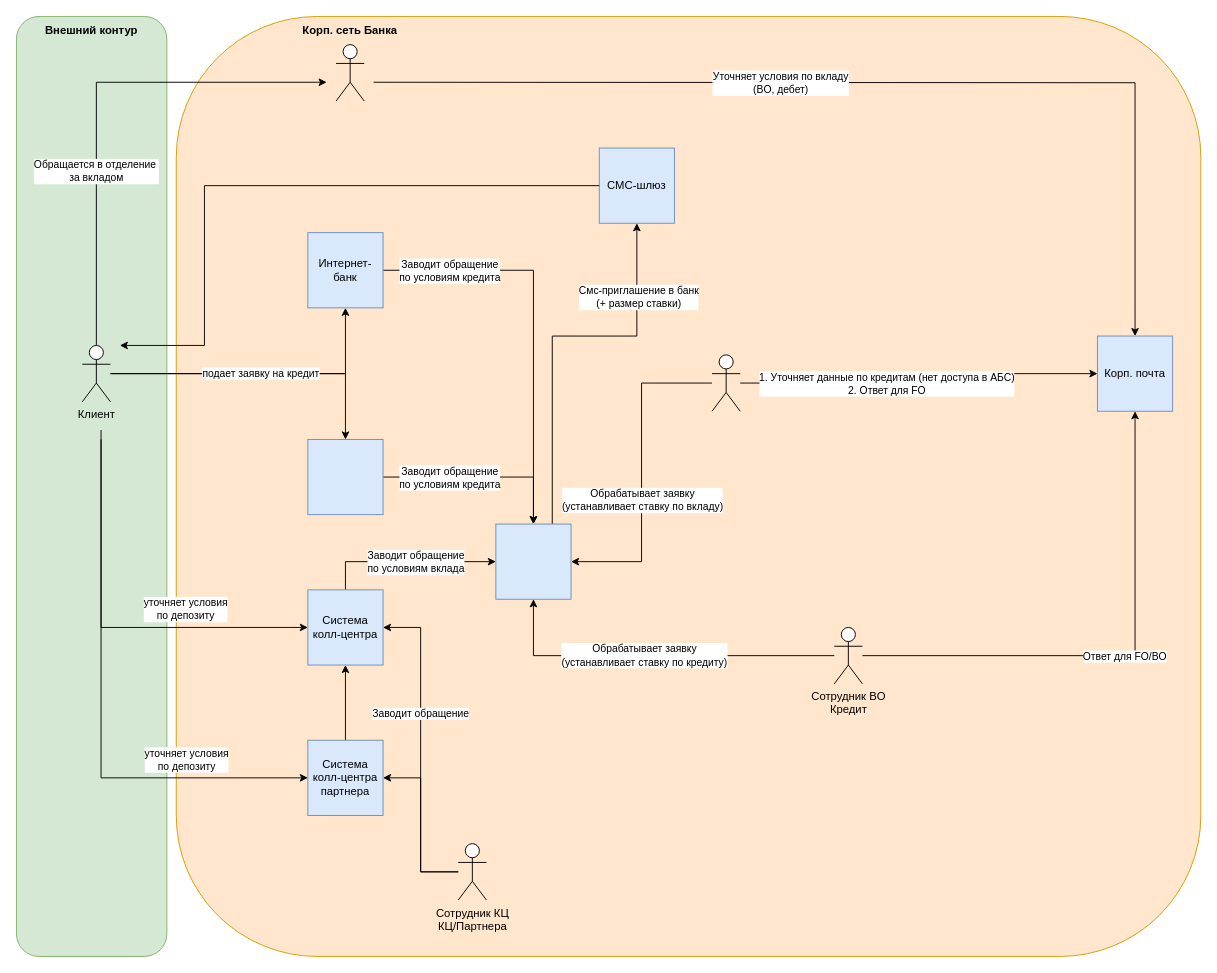
This 1217x973 diagram has some shape labels left out. The centre of each missing label's shape, as x and y in pixels:
"АБС" goes at (x=533, y=561).
"Сайт банка" goes at (x=345, y=477).
"Сотрудник BO Дебет" goes at (x=725, y=382).
"Сотрудник FO" goes at (x=349, y=72).
